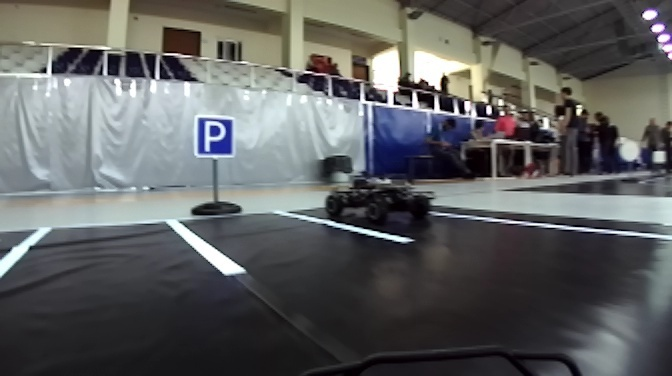park: (190, 115, 239, 160)
